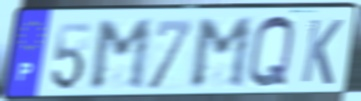5: (49, 20, 95, 92)
7: (150, 16, 195, 91)
K: (298, 17, 345, 88)
M: (88, 17, 155, 94), (189, 16, 255, 92)
Q: (246, 13, 298, 92)
